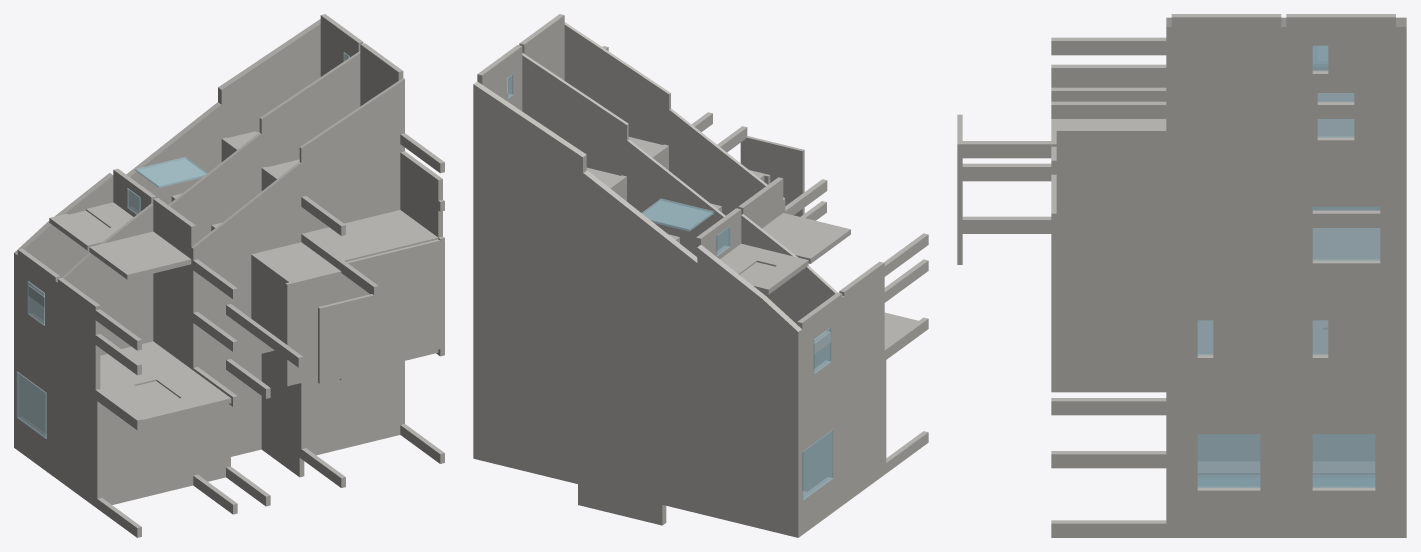
The model's file is daata_hamlet.obj.
The picture shows the model from 3 angles, left to right: view 1: azimuth 30°, elevation 25°; view 2: azimuth 150°, elevation 25°; view 3: azimuth 270°, elevation 25°; orthographic projection. The views are drawn at different scales.
Parts seen in each view (by area): view 1: RCC_Concrete_Slabs, Architectural_Glass; view 2: RCC_Concrete_Slabs, Architectural_Glass; view 3: RCC_Concrete_Slabs, Architectural_Glass.
Part boxes in pixels (bbox=[...]): RCC_Concrete_Slabs: bbox=[14, 14, 444, 537]; Architectural_Glass: bbox=[16, 52, 349, 438]; RCC_Concrete_Slabs: bbox=[473, 14, 928, 537]; Architectural_Glass: bbox=[507, 74, 833, 500]; RCC_Concrete_Slabs: bbox=[957, 14, 1406, 537]; Architectural_Glass: bbox=[1197, 45, 1380, 487].
Size of the model in its own units: 14.98 by 17.68 by 13.11.
